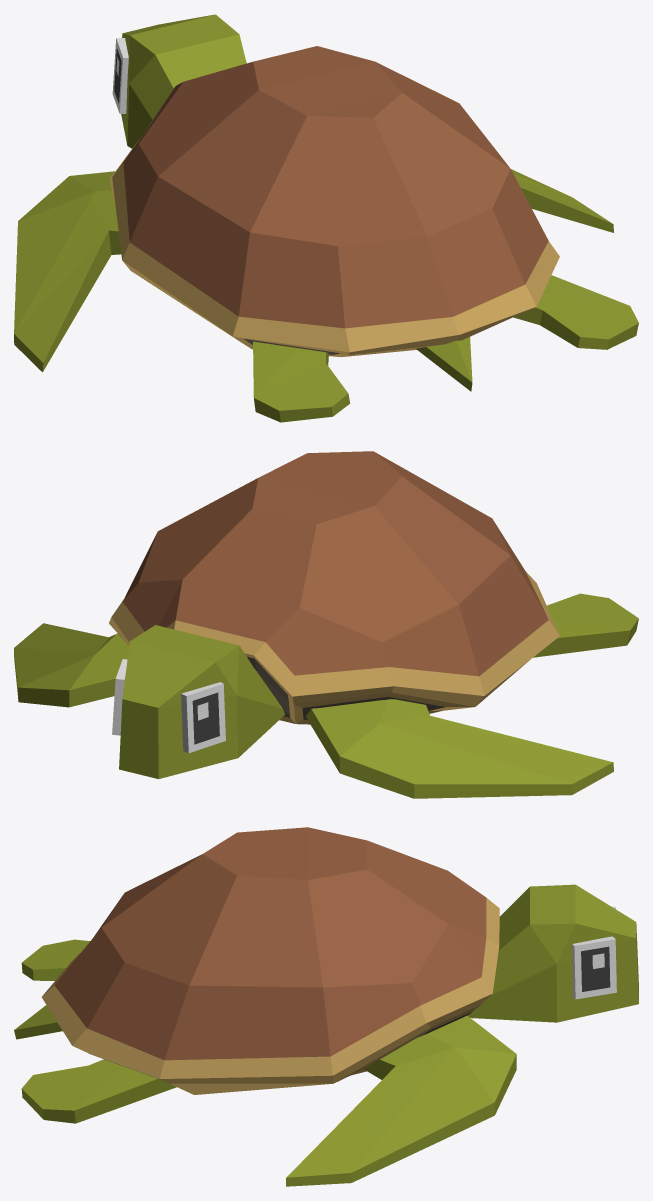
Rendered from Turtle.fbx.
3 views of the same model, one above another, from view 1: azimuth 30°, elevation 25°; view 2: azimuth 150°, elevation 25°; view 3: azimuth 270°, elevation 25° (orthographic). The views are drawn at different scales.
Parts seen in each view (by area): view 1: Plane; view 2: Plane; view 3: Plane.
Boxes of the visible parts, box(x1,y1,x2,y2) form: Plane: box(14, 14, 638, 422); Plane: box(14, 451, 638, 798); Plane: box(14, 827, 638, 1186).
Bounding box in the file's own units: 10 × 3.65 × 10.17.
